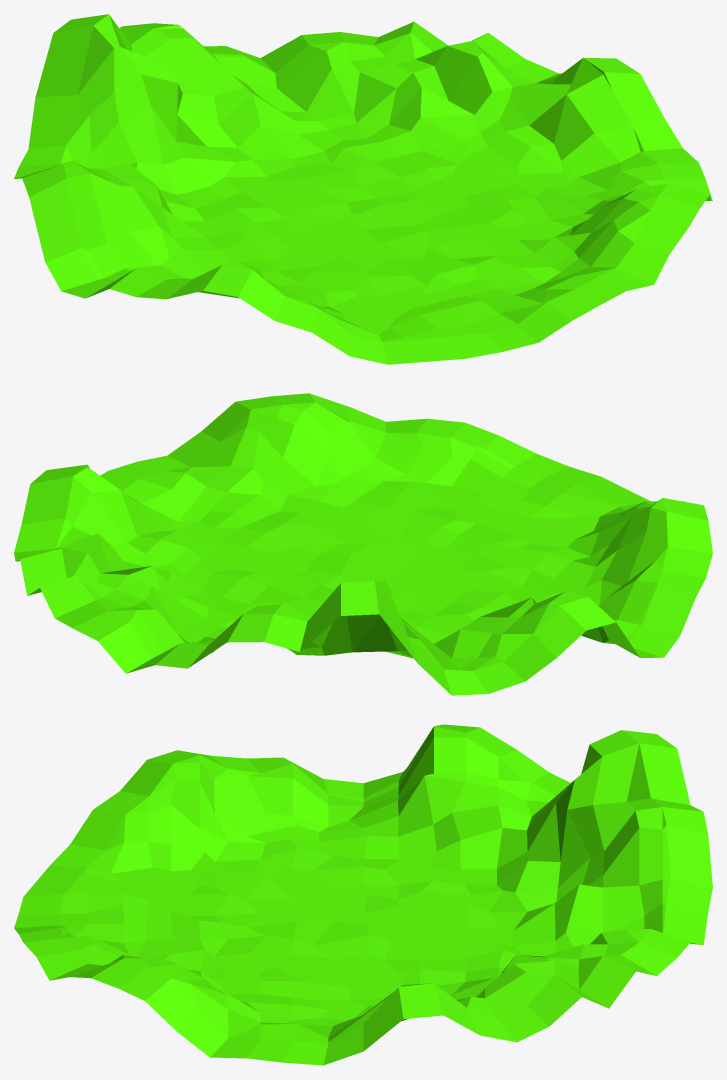
Rendered from Mars-One_map_terraforming_05.FBX.
3 renders of one model, top to bottom at view 1: azimuth 30°, elevation 25°; view 2: azimuth 150°, elevation 25°; view 3: azimuth 270°, elevation 25°, orthographic.
Parts seen in each view (by area): view 1: Circle001; view 2: Circle001; view 3: Circle001.
Boxes of the visible parts, x1,y1,x2,y2 form: Circle001: (14, 14, 712, 364); Circle001: (14, 393, 712, 695); Circle001: (14, 724, 712, 1065).
Size of the model in its own units: 470 by 98.1 by 472.
Materials: 1 (1 with a texture image).
